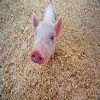heo: (28, 12, 65, 67)
